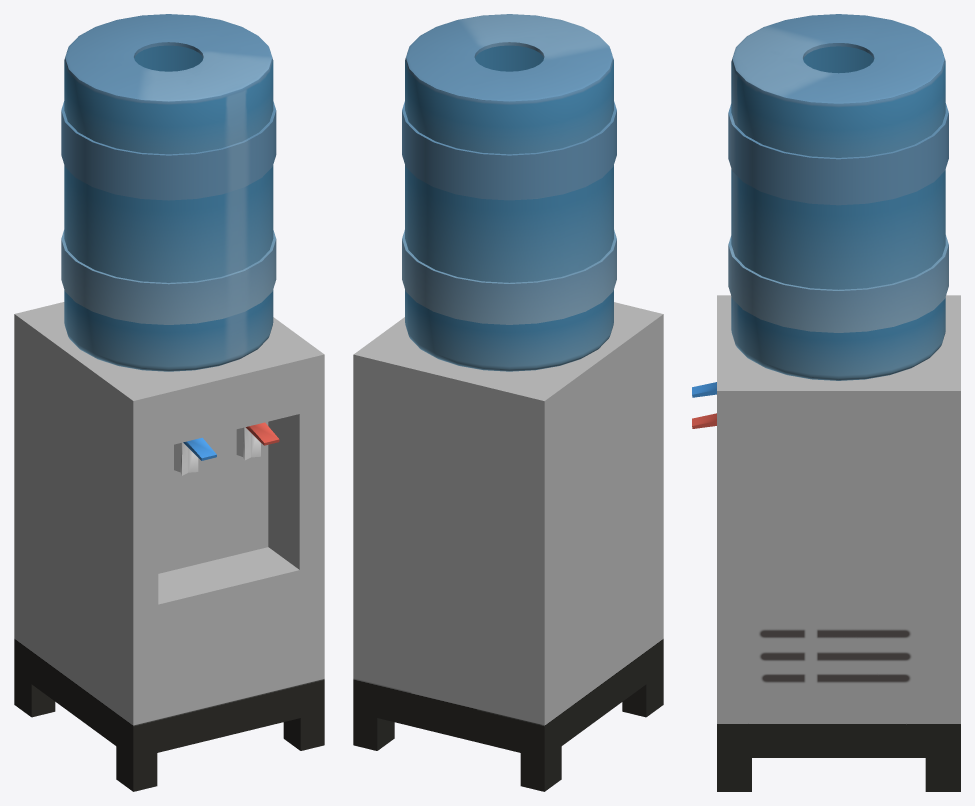
The picture shows the model from 3 angles, left to right: view 1: azimuth 30°, elevation 25°; view 2: azimuth 150°, elevation 25°; view 3: azimuth 270°, elevation 25°; orthographic projection. The views are drawn at different scales.
Parts seen in each view (by area): view 1: Dispenser_1; view 2: Dispenser_1; view 3: Dispenser_1.
Part boxes in pixels (x1,y1,x2,y2): Dispenser_1: (14,14,324,791); Dispenser_1: (353,14,663,791); Dispenser_1: (692,14,960,791).
Size of the model in its own units: 0.4221 by 1.41 by 0.5015.
1 material, 1 textured.
